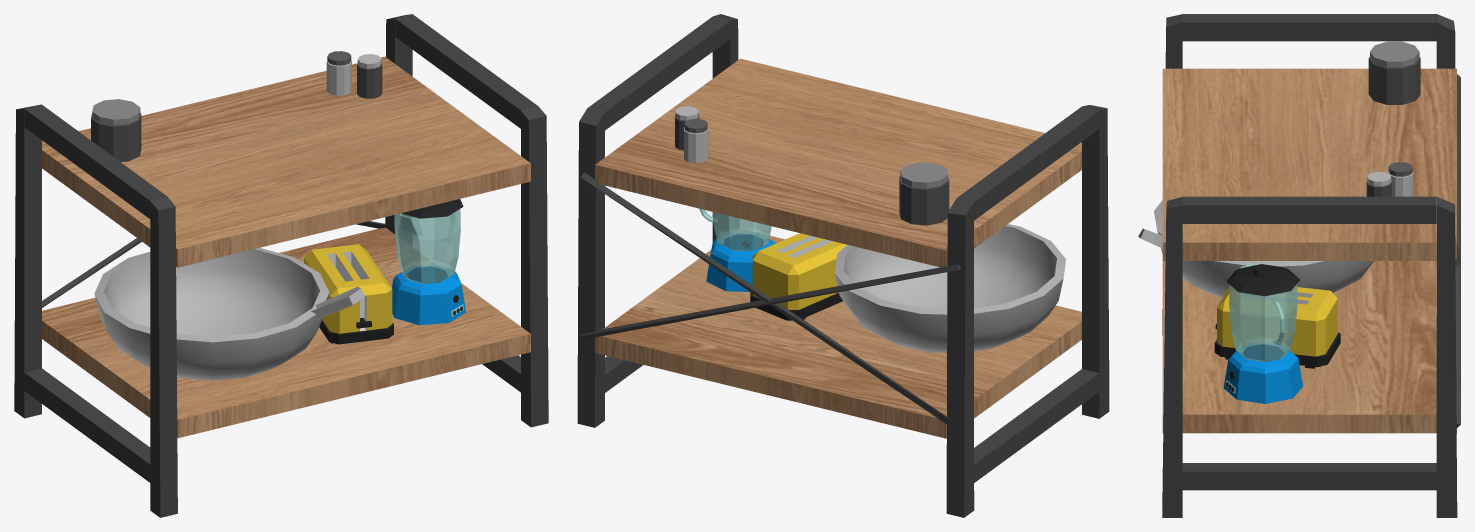
File: Shelf_5.fbx
The picture shows the model from 3 angles, left to right: view 1: azimuth 30°, elevation 25°; view 2: azimuth 150°, elevation 25°; view 3: azimuth 270°, elevation 25°; orthographic projection.
Visible parts, largest first — view 1: Shelve_5; view 2: Shelve_5; view 3: Shelve_5.
Part boxes in pixels (<box>): Shelve_5: <box>14,14,548,517</box>; Shelve_5: <box>577,14,1109,517</box>; Shelve_5: <box>1138,14,1460,517</box>.
Bounding box in the file's own units: 334 × 255 × 238.
12 materials, 1 textured.
